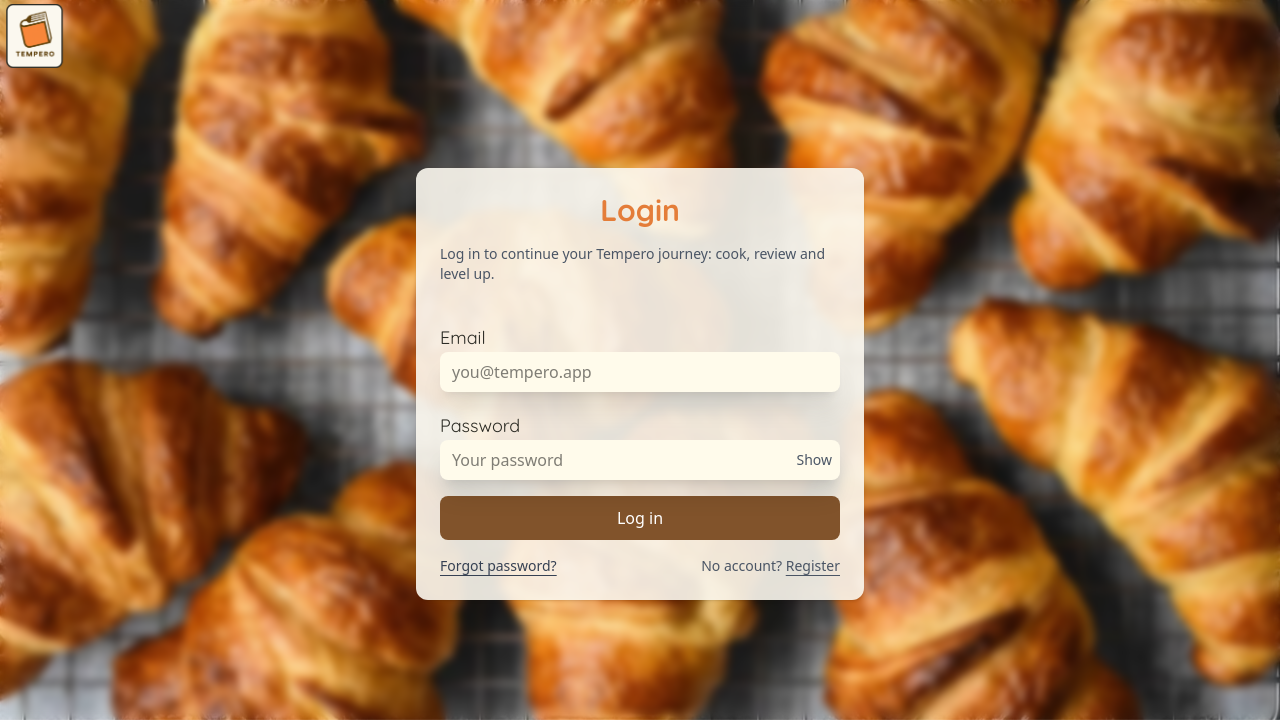
LoginPage › envia email de reset de password quando clica em Forgot password
In the field labelled "Email": (640, 372) [440,352,840,392], type "reset@example.com"
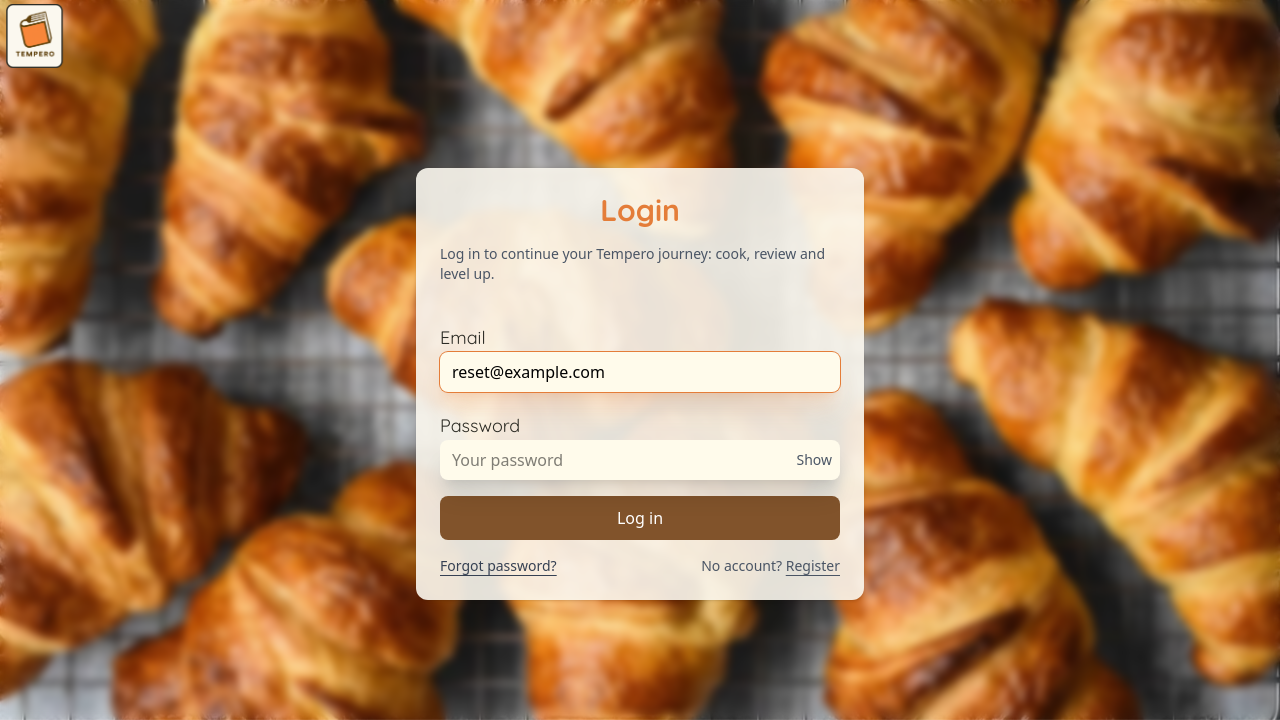
Click the button "Forgot password?": (498, 566) [440,556,557,576]
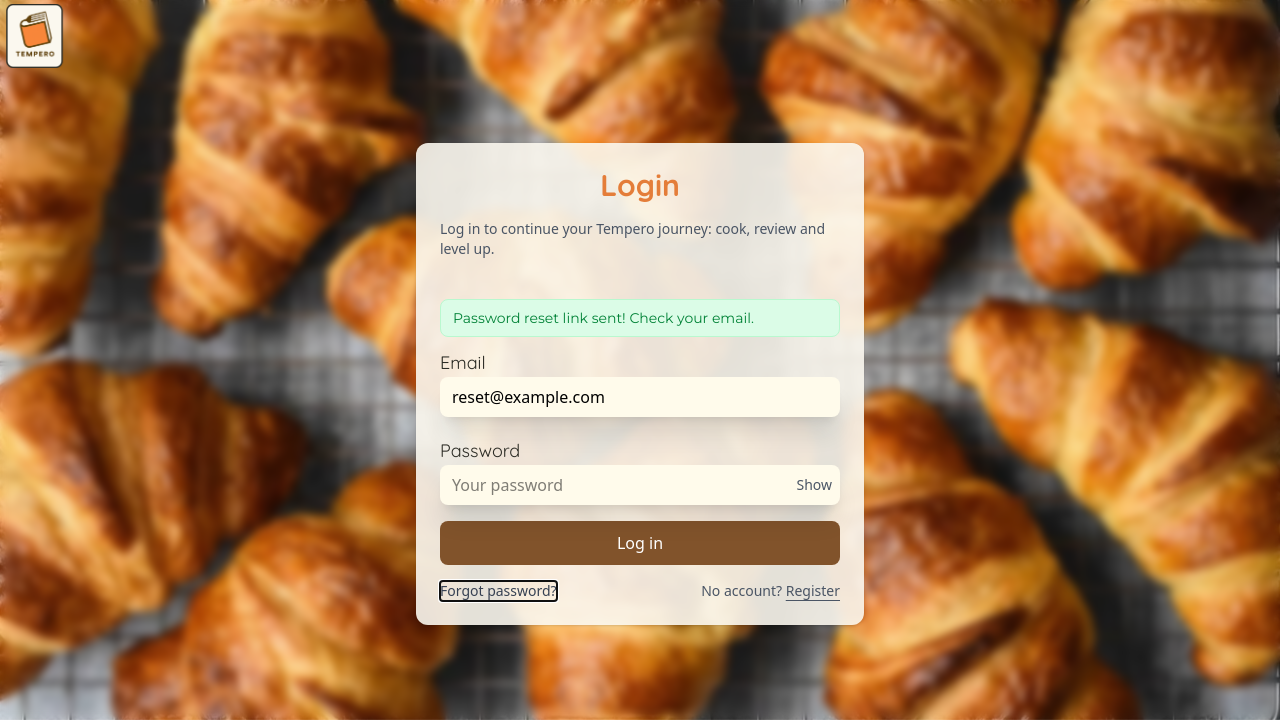
Expected: the text "Password reset link sent! Check your email." is shown, [440,299,840,337]
